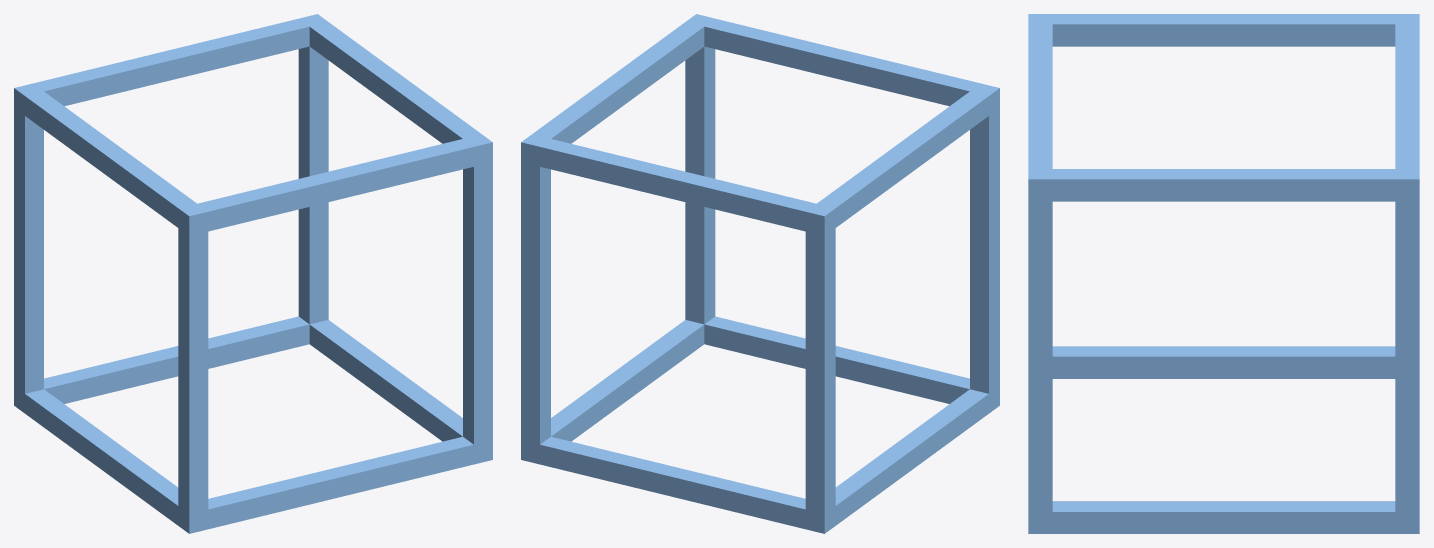
File: lamp.vox.obj
3 views of the same model, side by side, from view 1: azimuth 30°, elevation 25°; view 2: azimuth 150°, elevation 25°; view 3: azimuth 270°, elevation 25° (orthographic). The views are drawn at different scales.
Bounding box in the file's own units: 1.6 × 1.6 × 1.6.
1 material, 1 textured.
